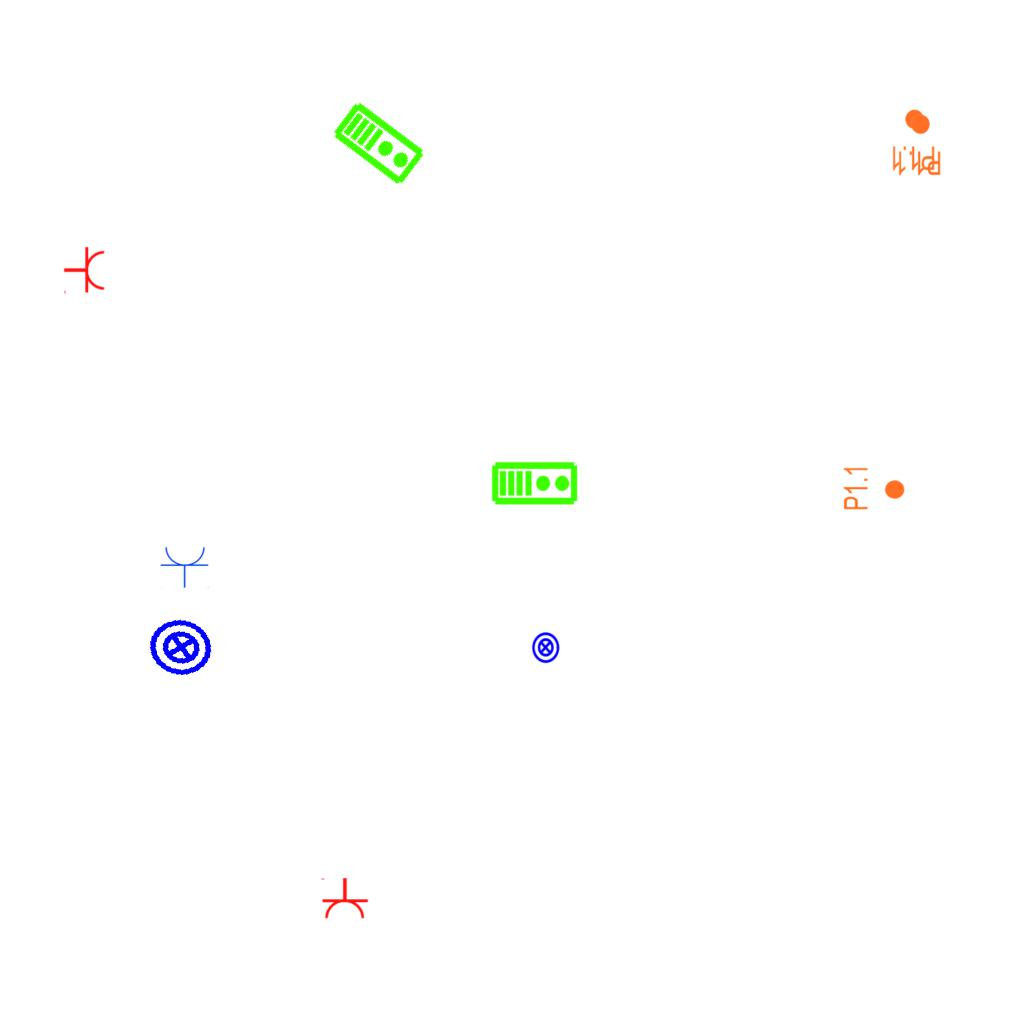Downlight_LED_Einbauleuchten_Flur: (842, 465, 906, 511), (890, 108, 936, 172), (896, 113, 942, 177)
Gegensprechanlage_mit_Video: (330, 97, 429, 189), (491, 459, 579, 506)
Schukosteckdose_einfach: (160, 545, 210, 588), (319, 877, 369, 920), (63, 246, 106, 296)
Taster_beleuchtet: (142, 608, 220, 686), (529, 631, 562, 664)
